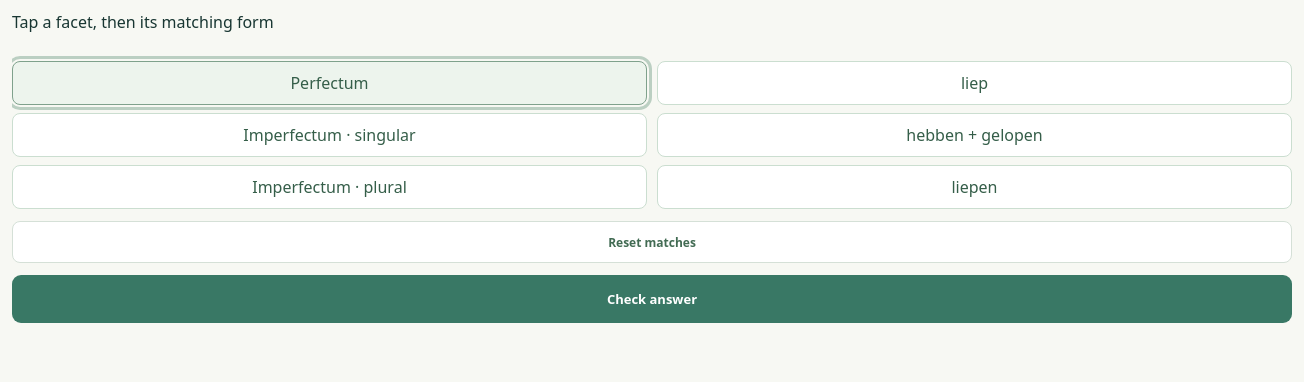
Test case: exercise renderers › resets wrong matches so all three facets can be corrected
Earlier steps of the test are not shown.
Later steps or results of the test are not shown.
Click the button "liep" at [974, 83], box [657,61,1292,105]
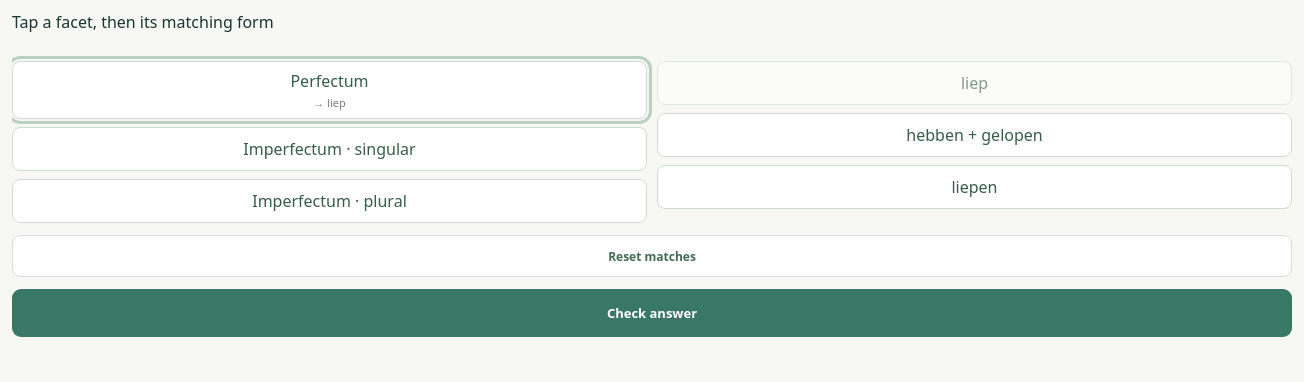
Click the button "Imperfectum · singular" at [330, 149], box [12,127,647,171]
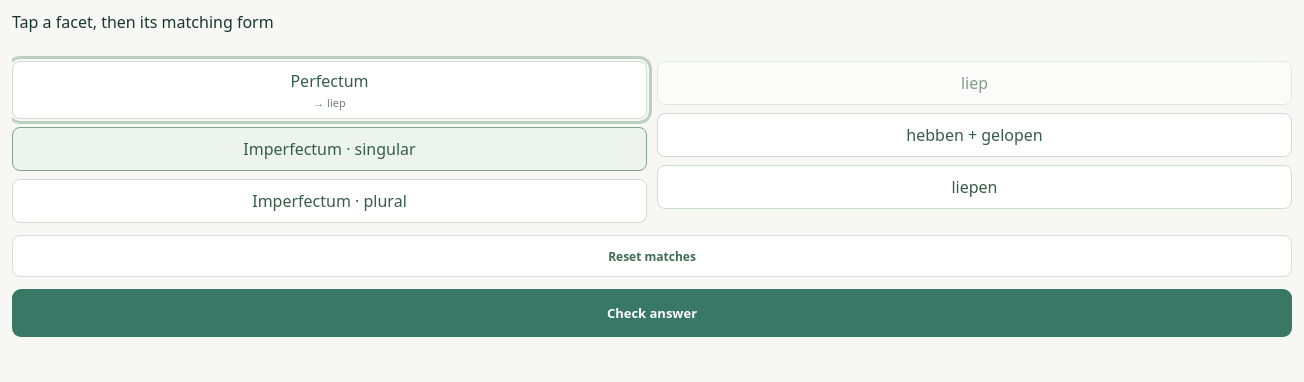
Click the button "liepen" at [974, 187], box [657,165,1292,209]
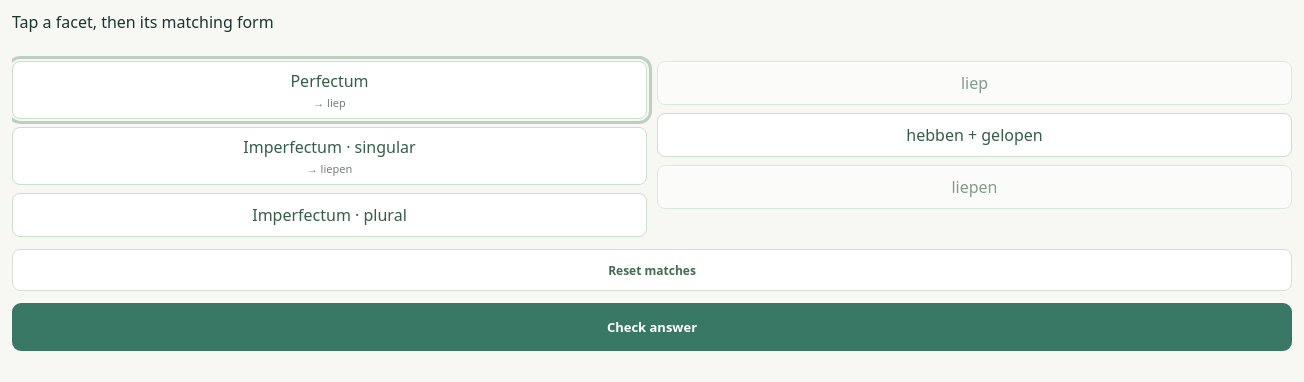
Click the button "Imperfectum · plural" at [330, 215], box [12,193,647,237]
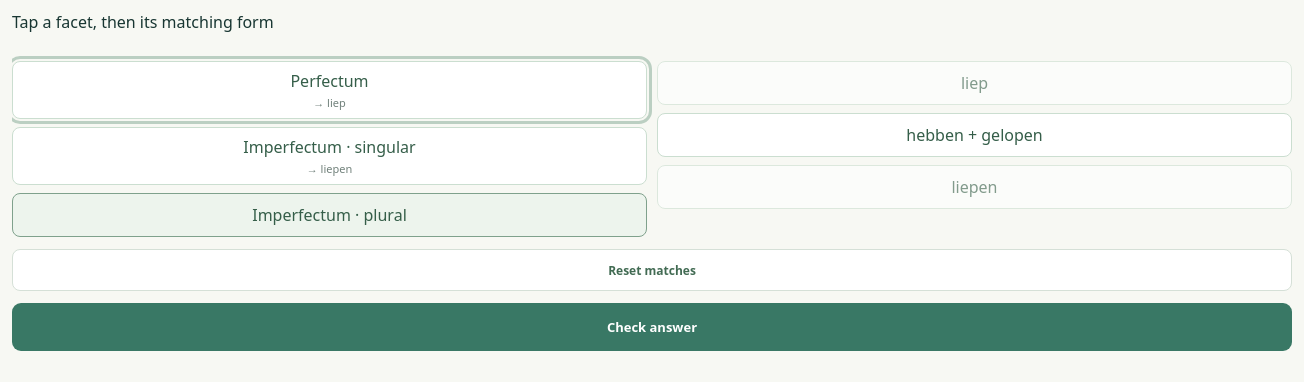
Click the button "hebben + gelopen" at [974, 135], box [657,113,1292,157]
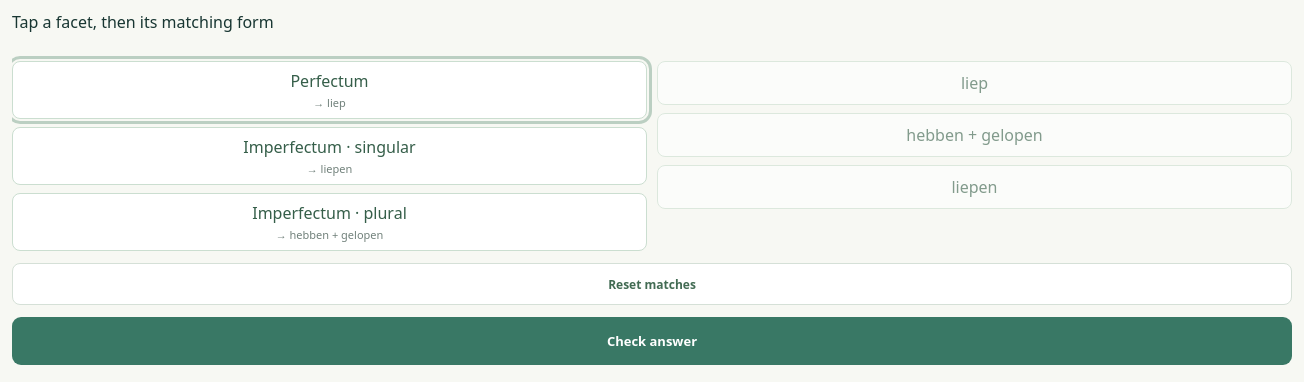
Expected: the button "Perfectum → liep" is shown, [12,61,647,119]
Expected: the button "Imperfectum · singular → liepen" is shown, [12,127,647,185]
Expected: the button "Imperfectum · plural → hebben + gelopen" is shown, [12,193,647,251]
Click the button "Reset matches" at [652, 284], box [12,263,1292,305]
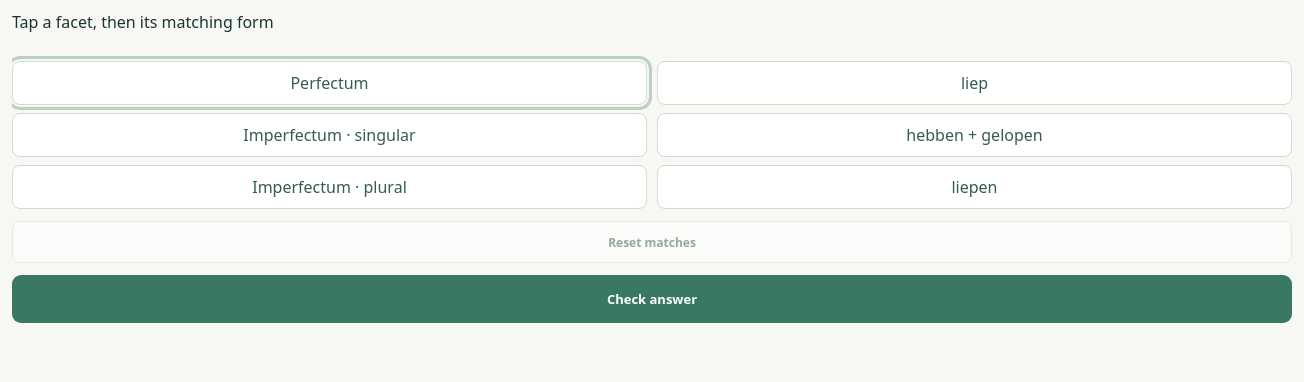
Expected: the button "Perfectum" is shown, [12,61,647,105]
